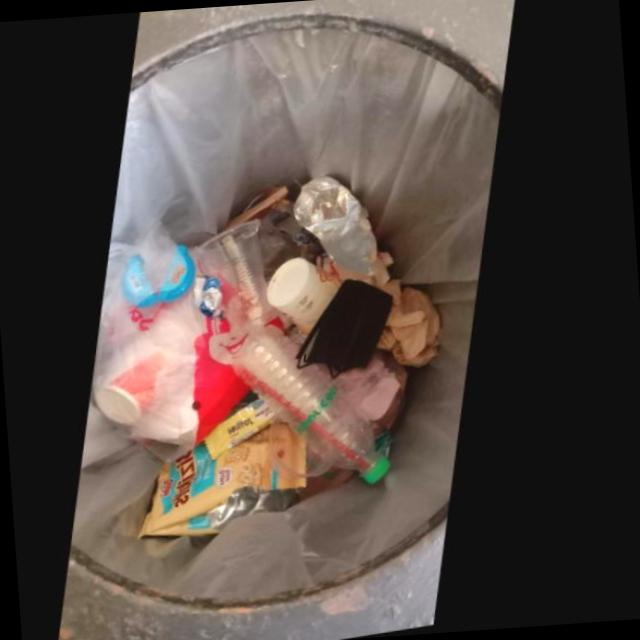bao_bi_thuc_pham: (148, 429, 316, 540), (212, 404, 284, 464), (199, 279, 229, 322)
carton: (272, 262, 348, 340)
chai_nhua_pet: (238, 330, 400, 491)
giay: (384, 287, 449, 377)
hop_nhua: (198, 224, 287, 342)
khau_trang: (302, 285, 400, 384)
ong_hut_nhua: (247, 372, 379, 476)
tui_ni_long: (297, 182, 382, 282)
